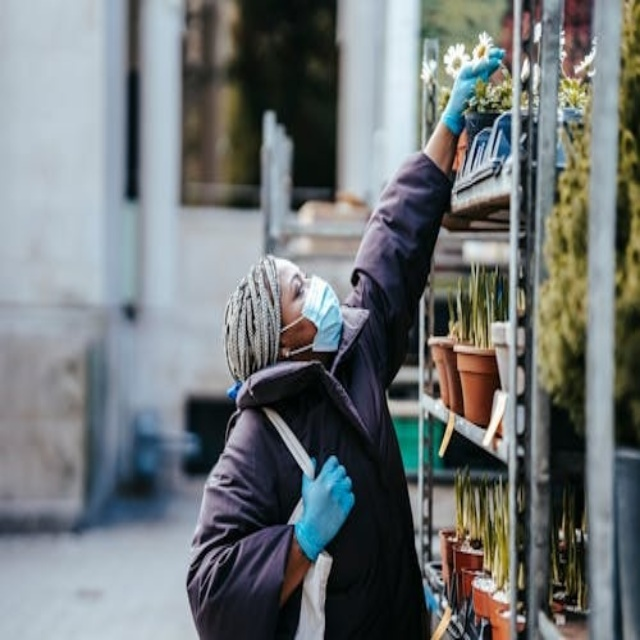Guantes: (428, 29, 511, 138), (289, 448, 364, 567)
Mascara: (299, 275, 344, 354)
Sin_gafas: (282, 256, 308, 315)
